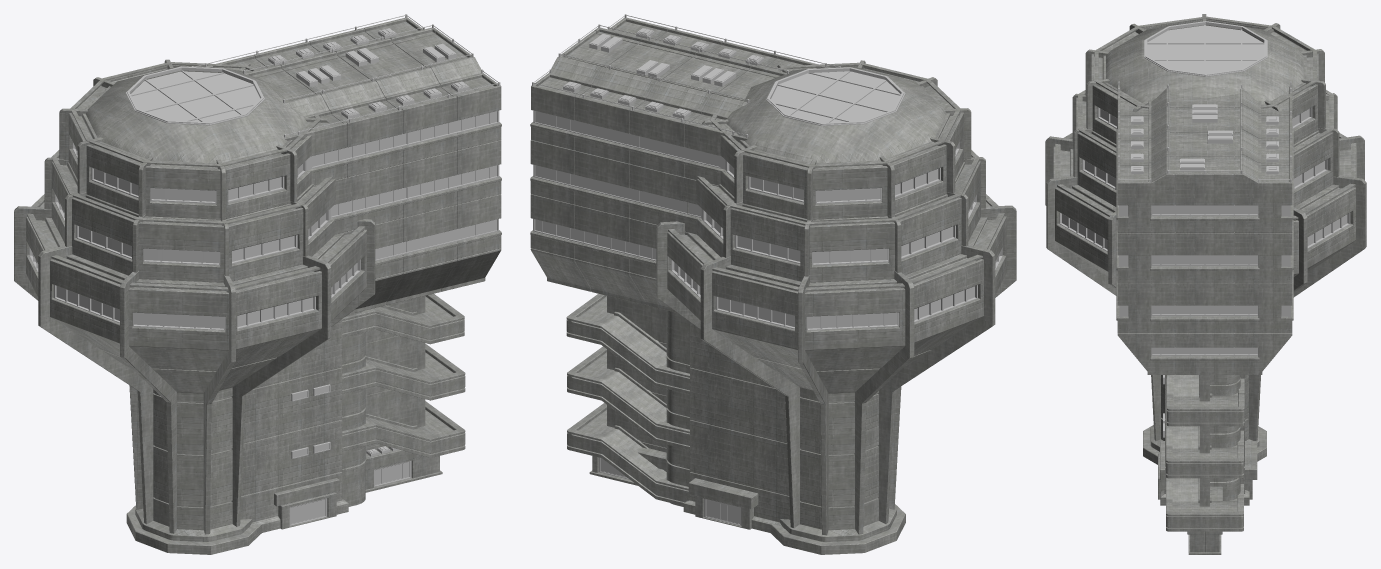
Rendered from Kitbash3D_Brutalist_Structure01.fbx.
3 views of the same model, side by side, from view 1: azimuth 30°, elevation 25°; view 2: azimuth 150°, elevation 25°; view 3: azimuth 270°, elevation 25° (orthographic). The views are drawn at different scales.
Visible parts, largest first — view 1: M_Bldg_A_Bldg_Front, M_Bldg_A_Bldg_Rear, M_Bldg_A_Hex_Ribs, M_Bldg_A_WindowsGlass, M_Bldg_A_WalkWayRamp, M_Bldg_A_MullionDark, M_Bldg_A_DetailsProps; view 2: M_Bldg_A_Bldg_Front, M_Bldg_A_Bldg_Rear, M_Bldg_A_Hex_Ribs, M_Bldg_A_WindowsGlass, M_Bldg_A_WalkWayRamp, M_Bldg_A_MullionDark, M_Bldg_A_DetailsProps; view 3: M_Bldg_A_Bldg_Rear, M_Bldg_A_Bldg_Front, M_Bldg_A_Hex_Ribs, M_Bldg_A_WindowsGlass, M_Bldg_A_WalkWayRamp, M_Bldg_A_MullionDark, M_Bldg_A_DetailsProps.
Boxes of the visible parts, left/top/right/bottom form: M_Bldg_A_Bldg_Front: left=26, top=62, right=366, bottom=554; M_Bldg_A_Bldg_Rear: left=202, top=17, right=501, bottom=532; M_Bldg_A_Hex_Ribs: left=14, top=59, right=375, bottom=534; M_Bldg_A_WindowsGlass: left=32, top=71, right=496, bottom=523; M_Bldg_A_WalkWayRamp: left=342, top=293, right=465, bottom=457; M_Bldg_A_MullionDark: left=29, top=14, right=500, bottom=525; M_Bldg_A_DetailsProps: left=126, top=28, right=469, bottom=456; M_Bldg_A_Bldg_Front: left=667, top=62, right=1006, bottom=554; M_Bldg_A_Bldg_Rear: left=530, top=17, right=831, bottom=532; M_Bldg_A_Hex_Ribs: left=656, top=60, right=1016, bottom=535; M_Bldg_A_WindowsGlass: left=535, top=71, right=999, bottom=523; M_Bldg_A_WalkWayRamp: left=566, top=293, right=689, bottom=505; M_Bldg_A_MullionDark: left=532, top=14, right=1002, bottom=525; M_Bldg_A_DetailsProps: left=563, top=28, right=905, bottom=125; M_Bldg_A_Bldg_Rear: left=1116, top=85, right=1293, bottom=554; M_Bldg_A_Bldg_Front: left=1053, top=16, right=1356, bottom=464; M_Bldg_A_Hex_Ribs: left=1045, top=14, right=1366, bottom=440; M_Bldg_A_WindowsGlass: left=1062, top=25, right=1347, bottom=353; M_Bldg_A_WalkWayRamp: left=1166, top=374, right=1244, bottom=531; M_Bldg_A_MullionDark: left=1059, top=25, right=1350, bottom=437; M_Bldg_A_DetailsProps: left=1131, top=21, right=1278, bottom=174.
Size of the model in its own units: 32.94 by 32.5 by 23.66.
